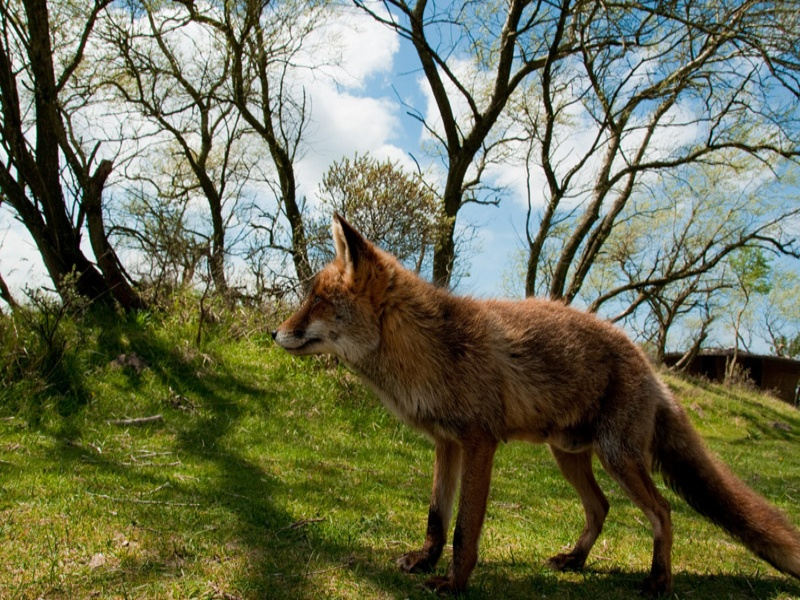fox: (275, 219, 800, 584)
